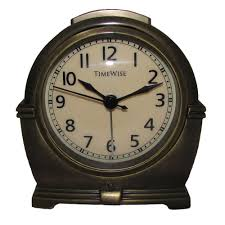alarm_clock: (15, 7, 205, 209), (19, 7, 205, 209), (19, 16, 205, 209), (19, 16, 197, 209)
